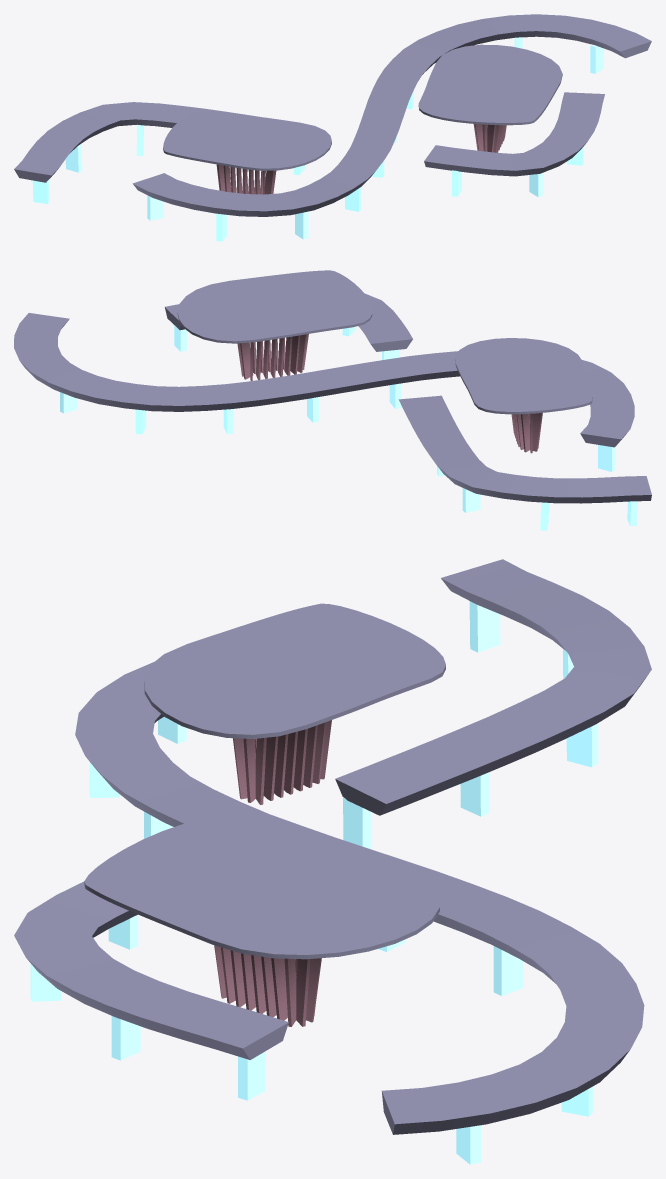
The picture shows the model from 3 angles, top to bottom: view 1: azimuth 30°, elevation 25°; view 2: azimuth 150°, elevation 25°; view 3: azimuth 270°, elevation 25°; orthographic projection. The views are drawn at different scales.
Parts seen in each view (by area): view 1: Sine Bench.001; view 2: Sine Bench.001; view 3: Sine Bench.001.
Part boxes in pixels (x1,y1,x2,y2): Sine Bench.001: (14,14,651,241); Sine Bench.001: (14,270,651,530); Sine Bench.001: (14,559,651,1164).
Size of what is drawn, in the model's own units: 9.2 by 0.93 by 4.39.
Materials: 3 (1 with a texture image).
